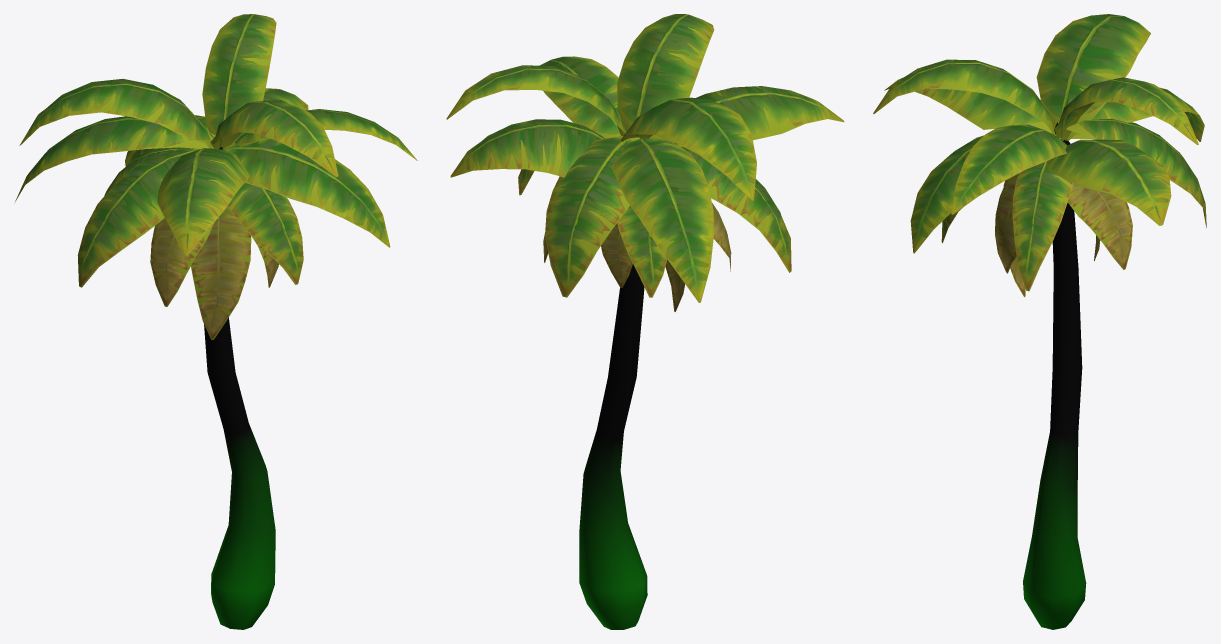
The model's file is P_PalmTree03.obj.
3 renders of one model, left to right at view 1: azimuth 30°, elevation 25°; view 2: azimuth 150°, elevation 25°; view 3: azimuth 270°, elevation 25°, orthographic. The views are drawn at different scales.
Size of the model in its own units: 6.67 by 11.74 by 6.3.
